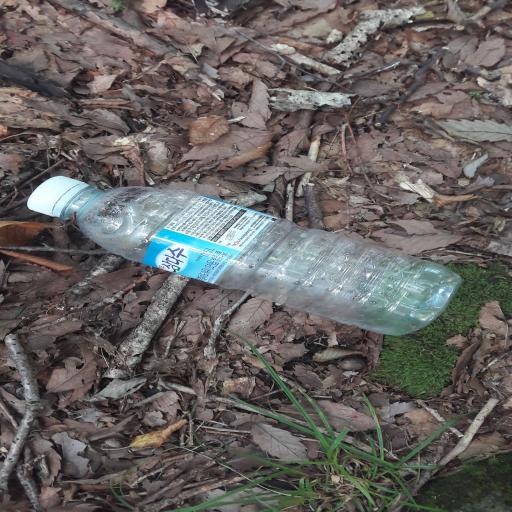plastic: (28, 177, 460, 334)
